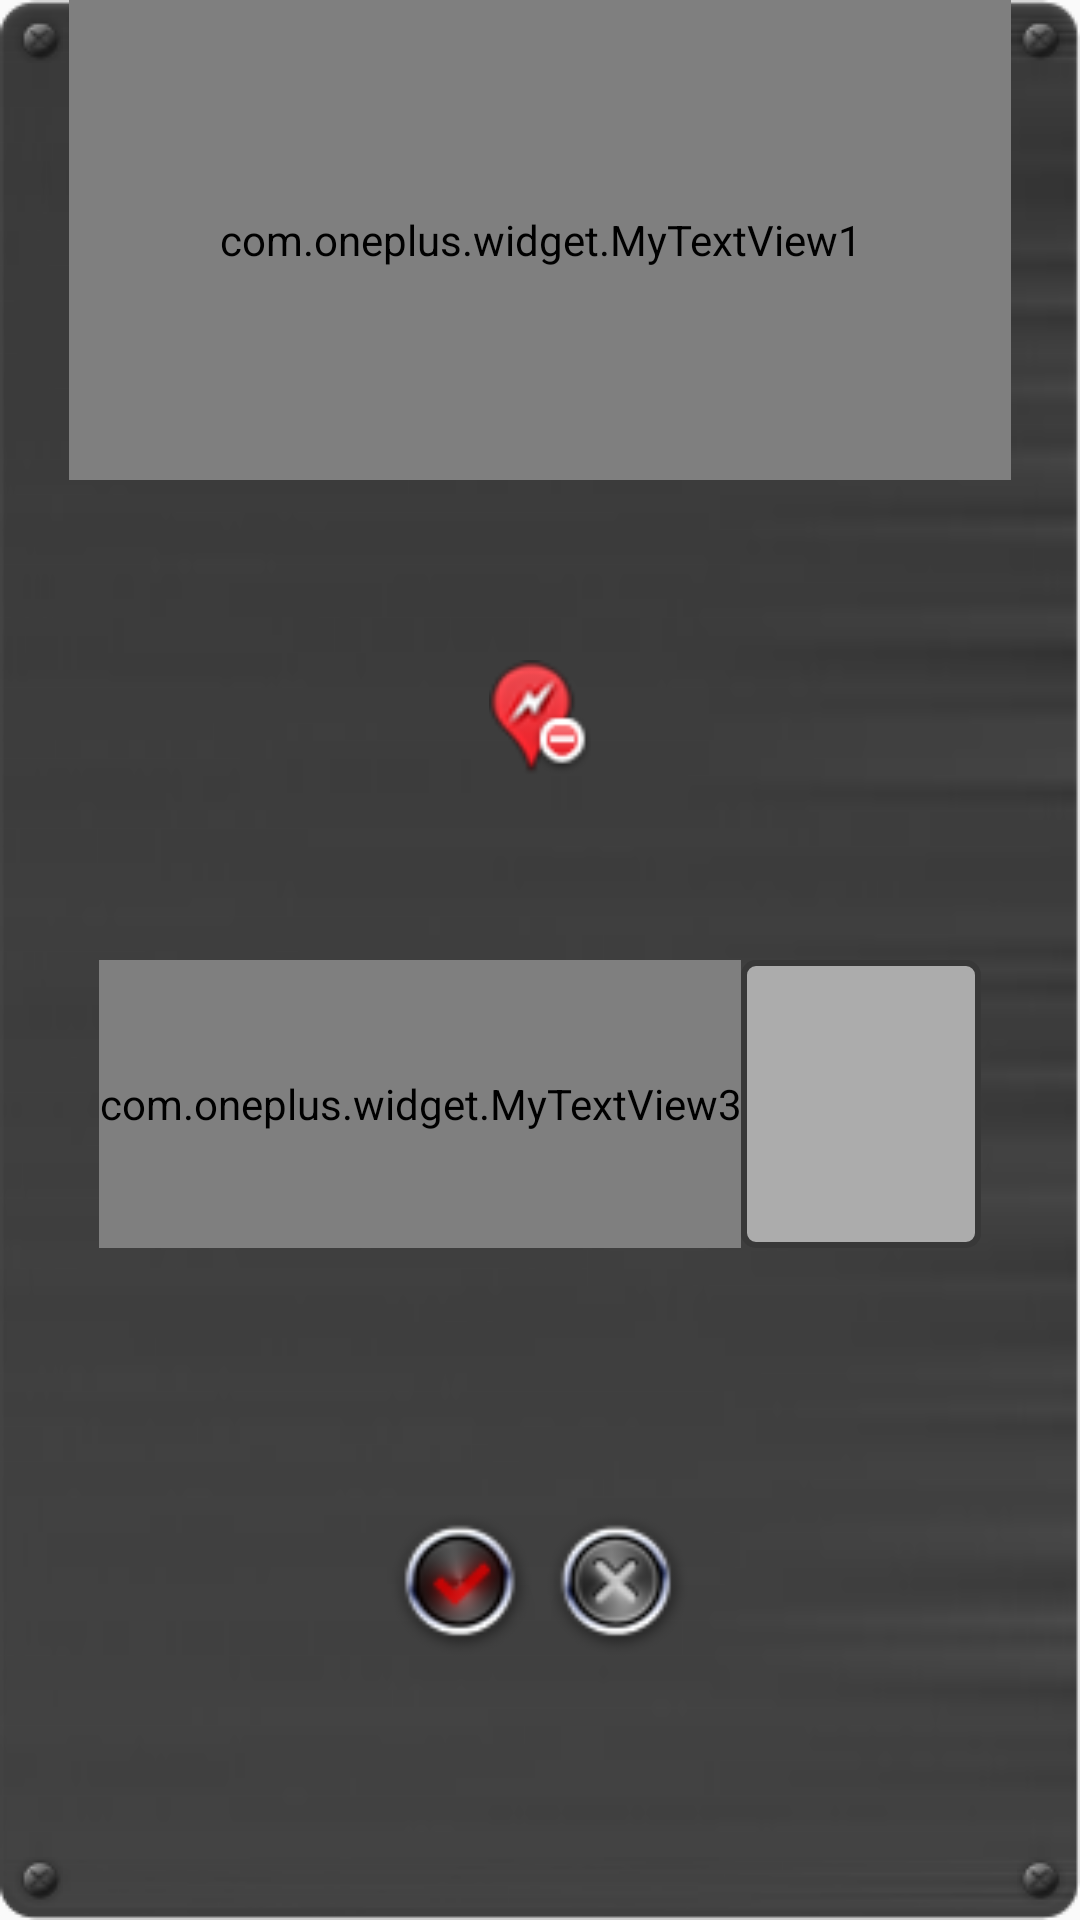

Named icons in this screenshot (1080×1920) and their centers, [x,y]:
cancel: [616,1581]
enemy delete: [539,716]
ok on: [459,1581]
